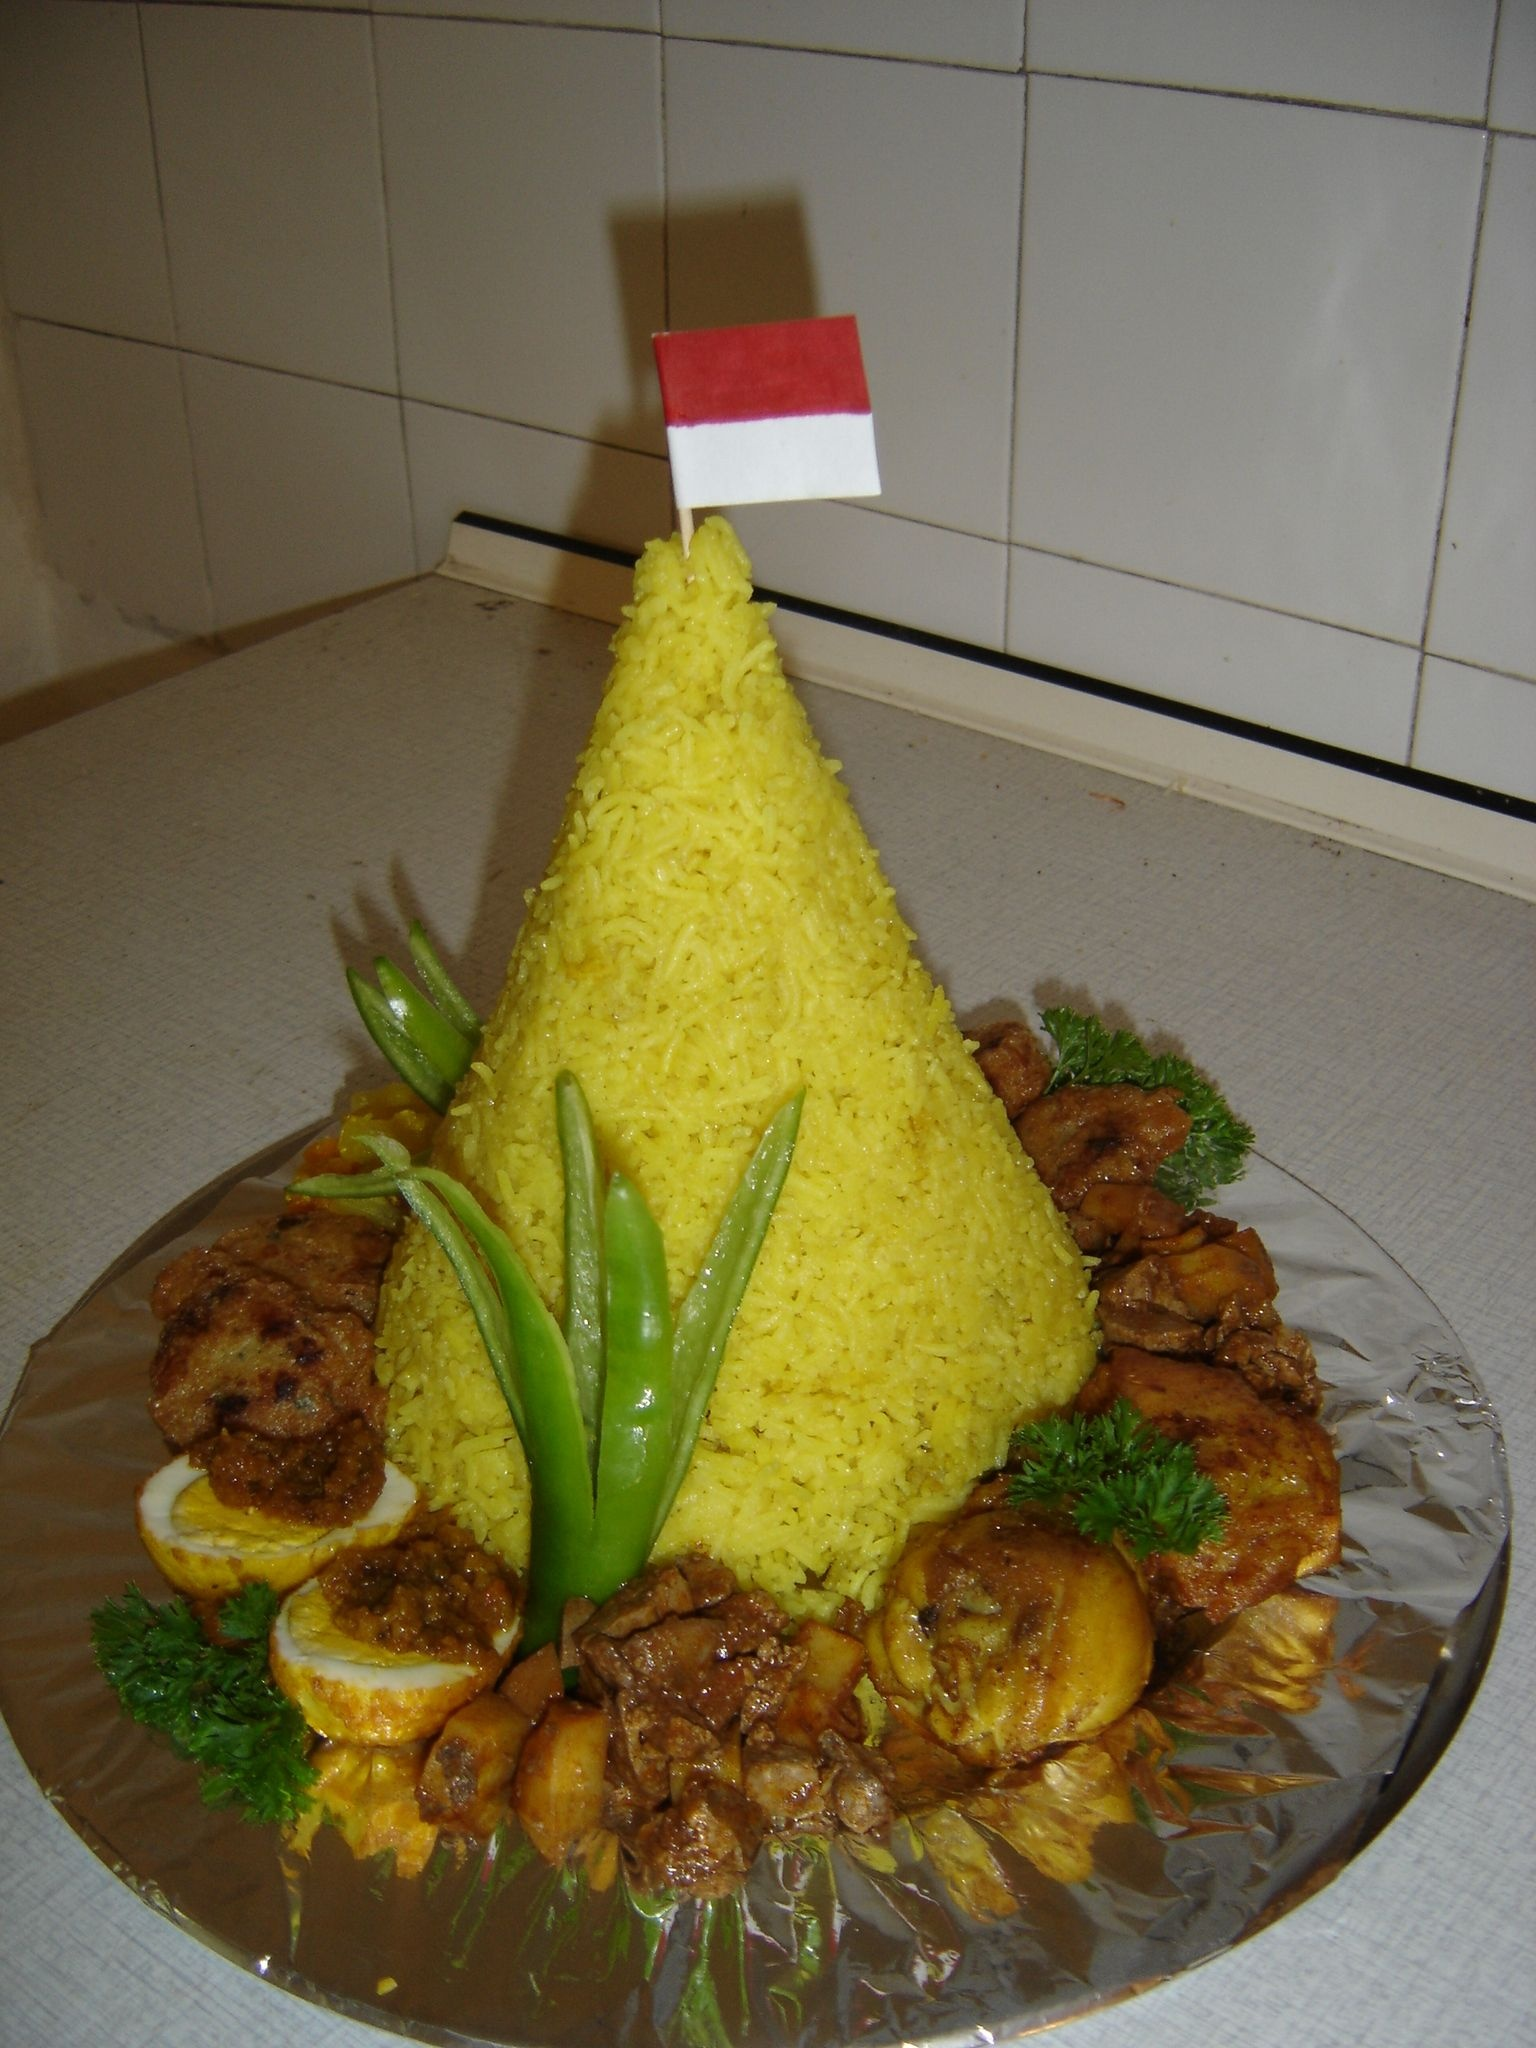nasi_tumpeng: (142, 506, 1329, 1880)
